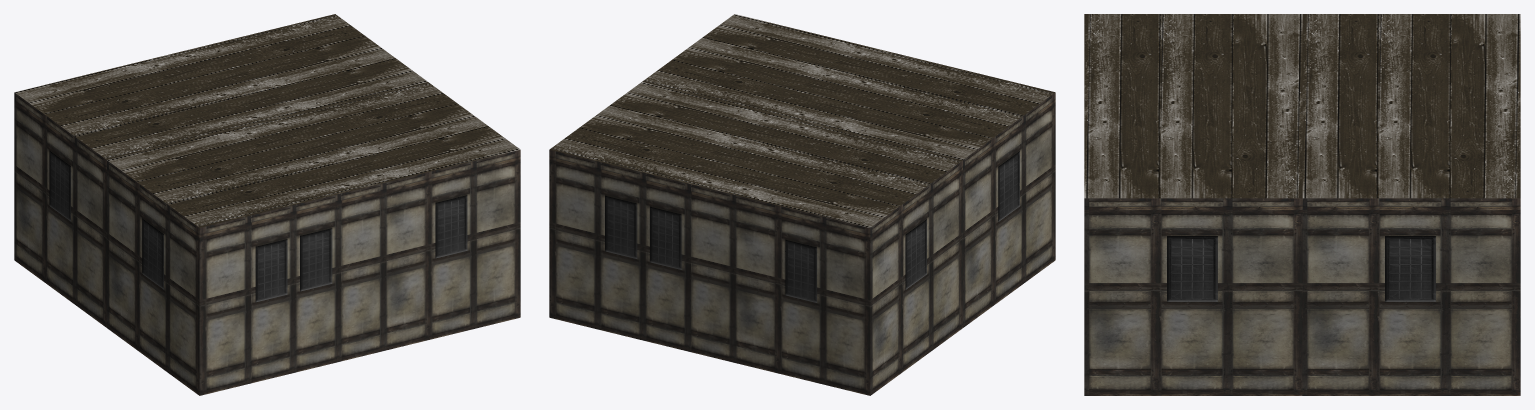
The model's file is HousePart03.FBX.
3 views of the same model, side by side, from view 1: azimuth 30°, elevation 25°; view 2: azimuth 150°, elevation 25°; view 3: azimuth 270°, elevation 25° (orthographic). The views are drawn at different scales.
Parts seen in each view (by area): view 1: HousePart03; view 2: HousePart03; view 3: HousePart03.
Part boxes in pixels (x1,y1,x2,y2): HousePart03: (14,14,520,395); HousePart03: (549,14,1055,395); HousePart03: (1084,14,1520,395).
Bounding box in the file's own units: 973 × 486 × 973.
